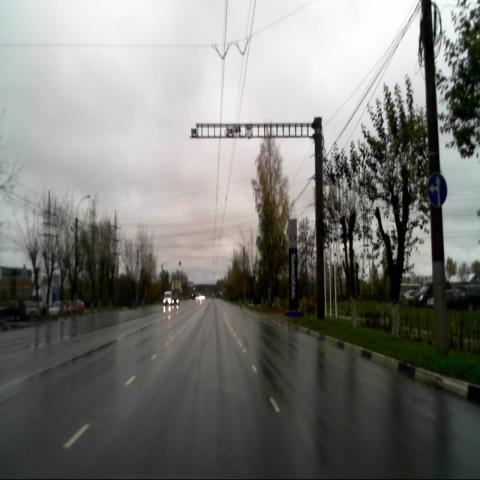4_1_5: (426, 172, 447, 207)
